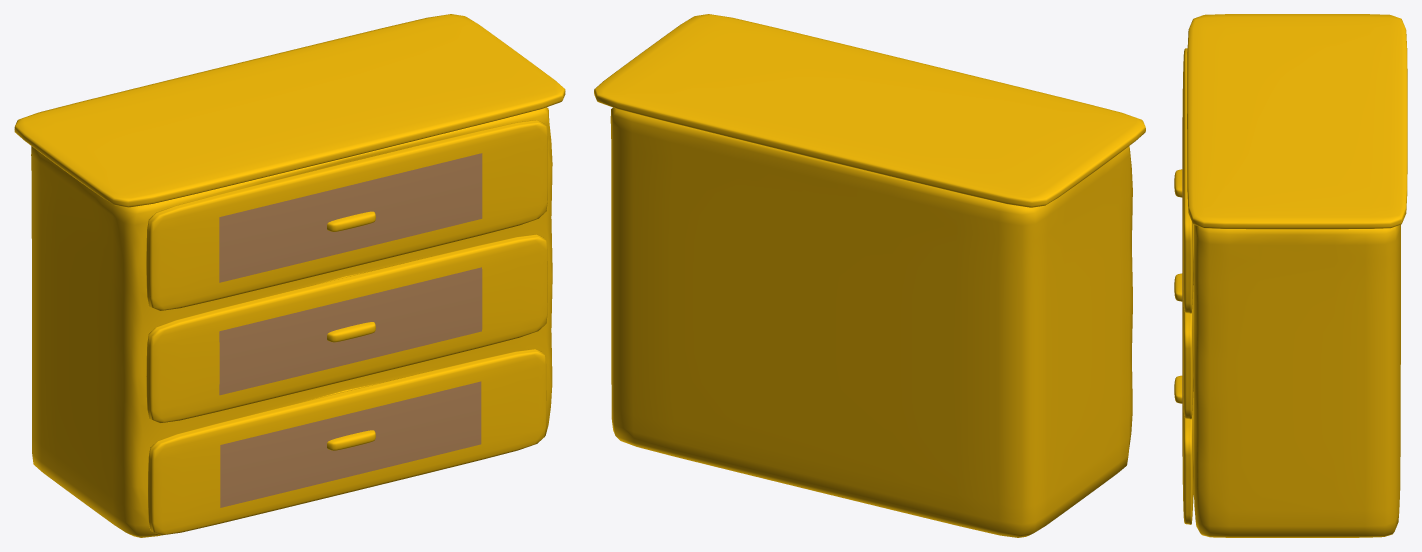
The model's file is Dresser-2.fbx.
The picture shows the model from 3 angles, left to right: view 1: azimuth 30°, elevation 25°; view 2: azimuth 150°, elevation 25°; view 3: azimuth 270°, elevation 25°; orthographic projection. The views are drawn at different scales.
Parts seen in each view (by area): view 1: Dresser.004, Dresser.005; view 2: Dresser.004; view 3: Dresser.004, Dresser.005.
Boxes of the visible parts, x1,y1,x2,y2 form: Dresser.004: (14, 14, 565, 537); Dresser.005: (327, 211, 375, 450); Dresser.004: (594, 14, 1145, 537); Dresser.004: (1182, 14, 1407, 537); Dresser.005: (1174, 169, 1182, 403).
Size of the model in its own units: 3.11 by 2.29 by 1.46.
